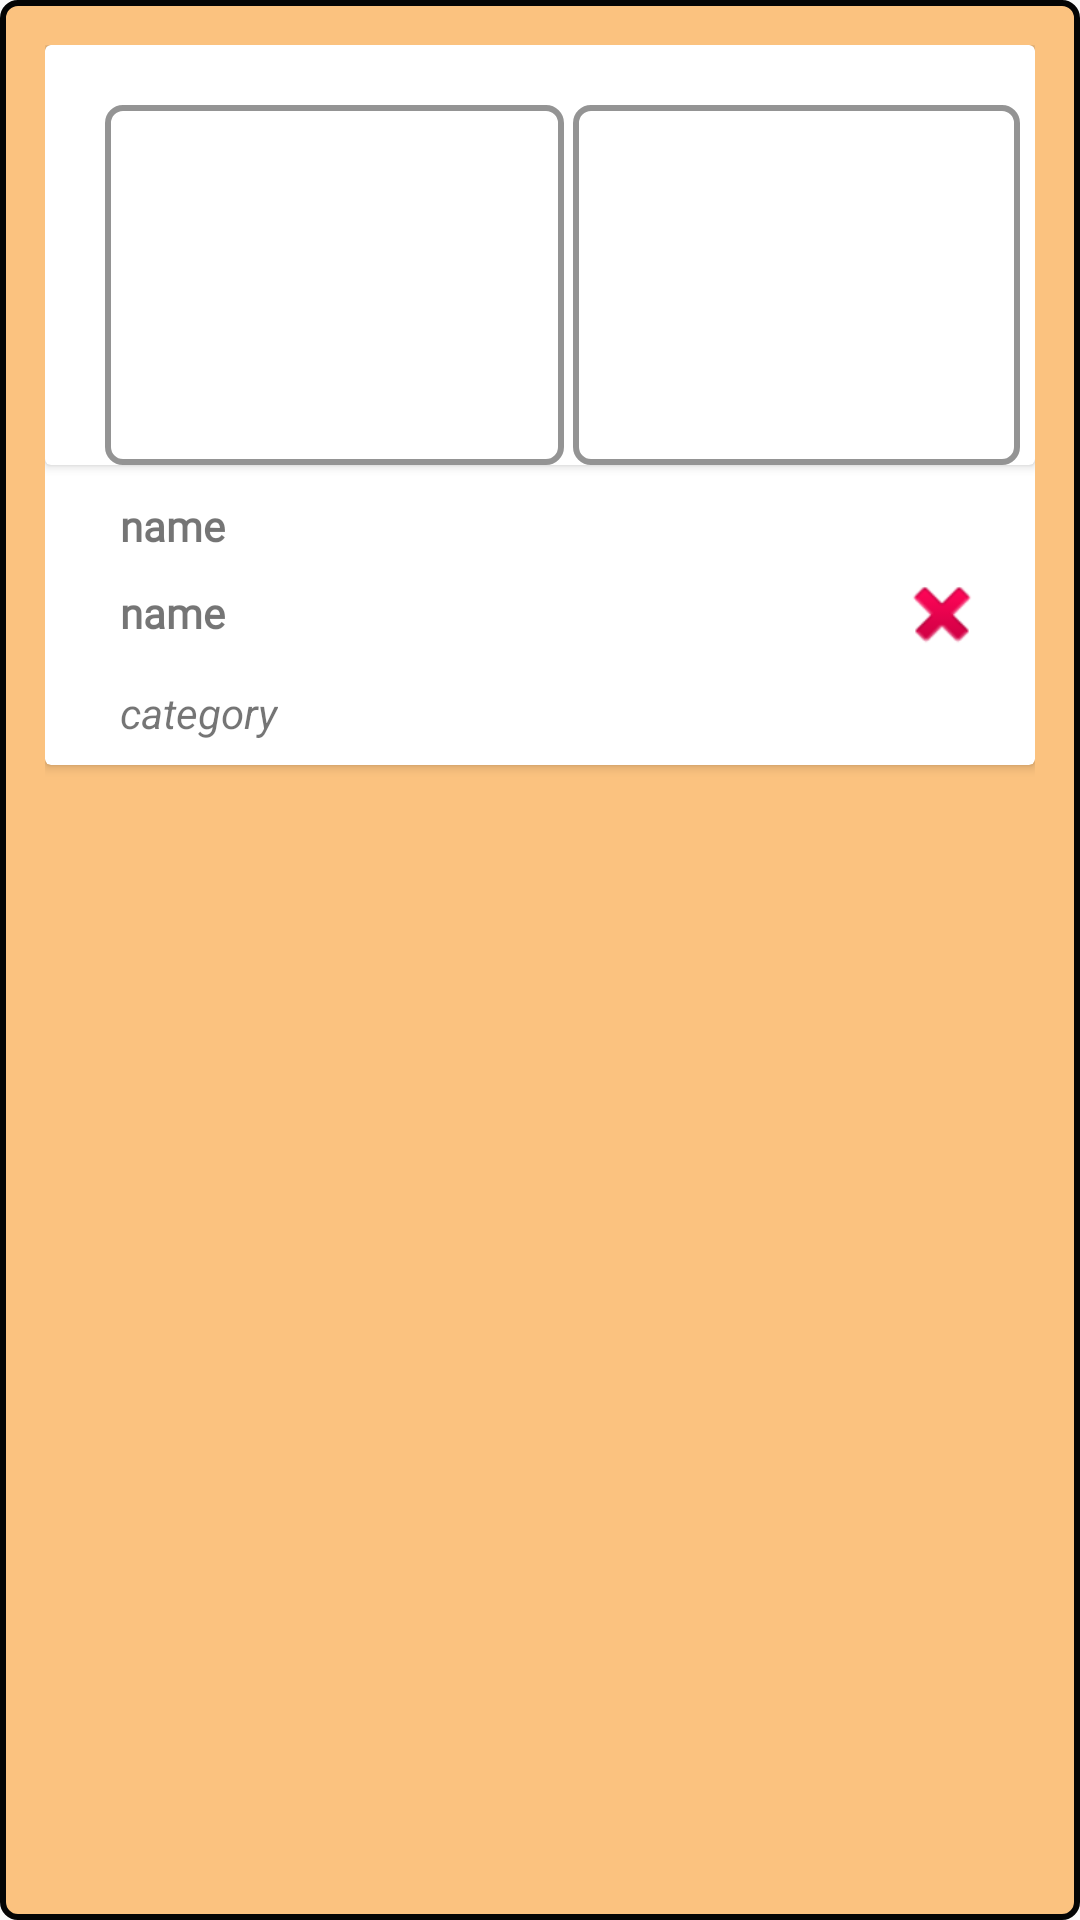

Where to tap for icons on this 1080w x 1920h app screen, as point (x, y):
delete: point (942, 614)
